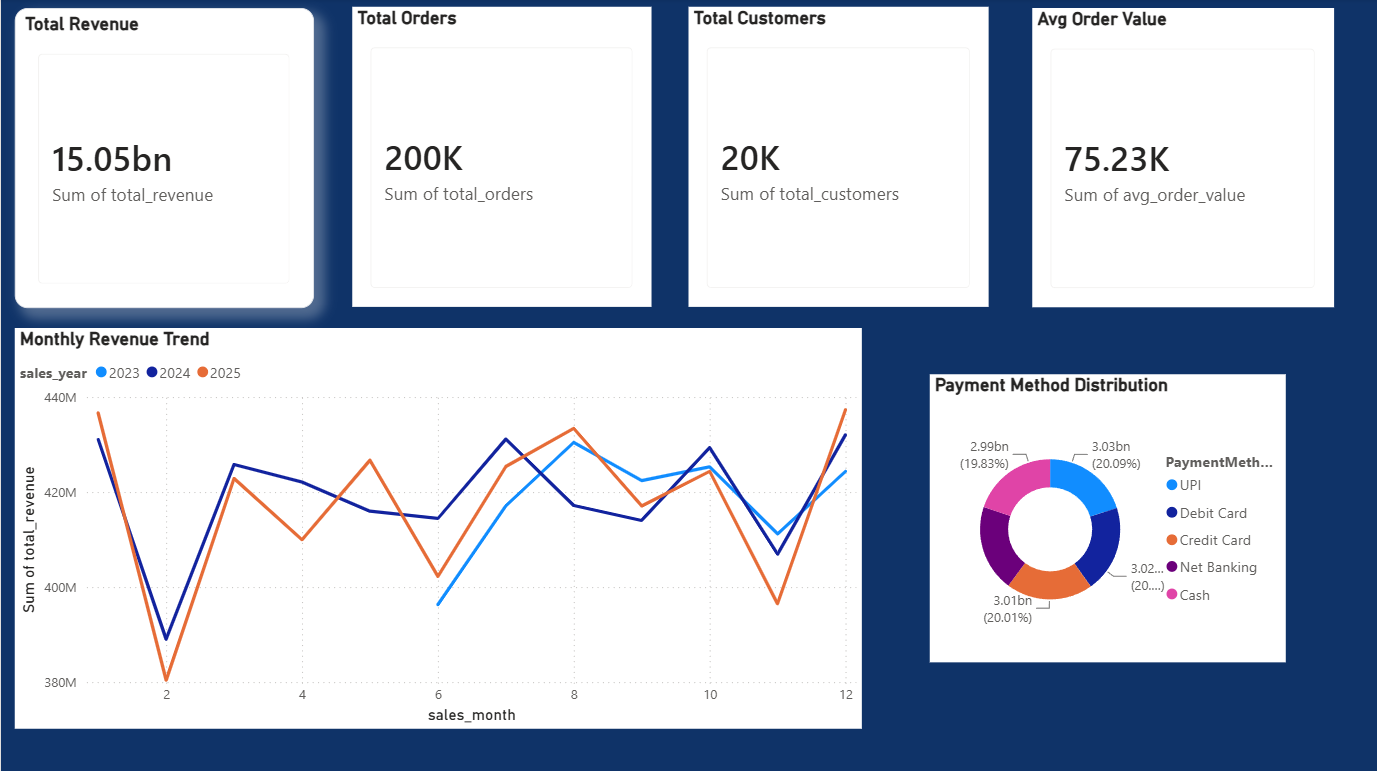

Layout of this report page (visuals, bound fields, positions):
{"tool":"powerbi","page":{"name":"Page 1","canvas":[1280,720],"ordinal":0},"visuals":[{"type":"cardVisual","title":"Total Revenue","fields":{"Data":["Sum(executive_kpis.total_revenue)"]},"box":[12.6,8.9,278.3,279.5],"z":0},{"type":"cardVisual","title":"Total Orders","fields":{"Data":["Sum(executive_kpis.total_orders)"]},"box":[326.3,7.6,278.3,279.5],"z":1000},{"type":"cardVisual","title":"Total Customers","fields":{"Data":["Sum(executive_kpis.total_customers)"]},"box":[640,7.6,279.5,279.5],"z":2000},{"type":"cardVisual","title":"Avg Order Value","fields":{"Data":["Sum(executive_kpis.avg_order_value)"]},"box":[958.7,8.9,280.8,278.3],"z":3000},{"type":"lineChart","title":"Monthly Revenue Trend","fields":{"Category":["monthly_sales.sales_month"],"Y":["Sum(monthly_sales.total_revenue)"],"Series":["monthly_sales.sales_year"]},"box":[12.6,307.4,788,373.1],"z":4000},{"type":"donutChart","title":"Payment Method Distribution","fields":{"Category":["payment_analysis.PaymentMethod"],"Y":["Sum(payment_analysis.total_amount)"]},"box":[863.9,350.4,331.4,268.1],"z":5000}]}

Visuals, with their boxes in screenshot pixels (x1, y1, x2, y2), scaled from the page's 1280x720 canvas onto the 1377x771 screenshot:
"Total Revenue" cardVisual: bbox(14, 10, 313, 309)
"Total Orders" cardVisual: bbox(351, 8, 650, 307)
"Total Customers" cardVisual: bbox(688, 8, 989, 307)
"Avg Order Value" cardVisual: bbox(1031, 10, 1333, 308)
"Monthly Revenue Trend" lineChart: bbox(14, 329, 861, 729)
"Payment Method Distribution" donutChart: bbox(929, 375, 1286, 662)
